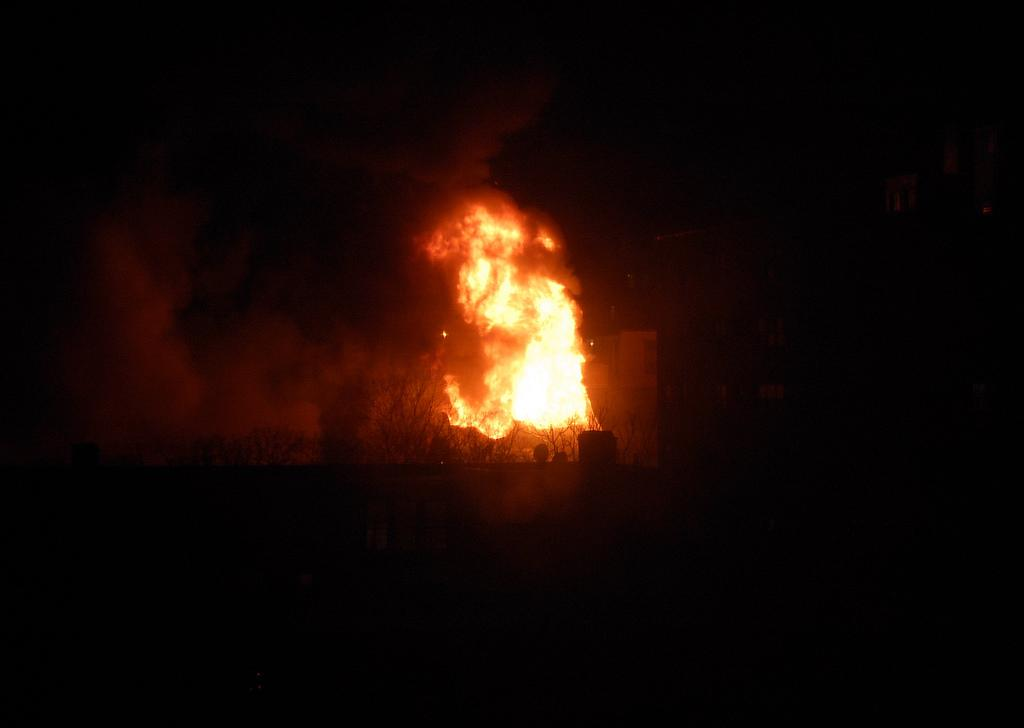fire: (500, 316, 586, 424), (458, 240, 528, 310)
